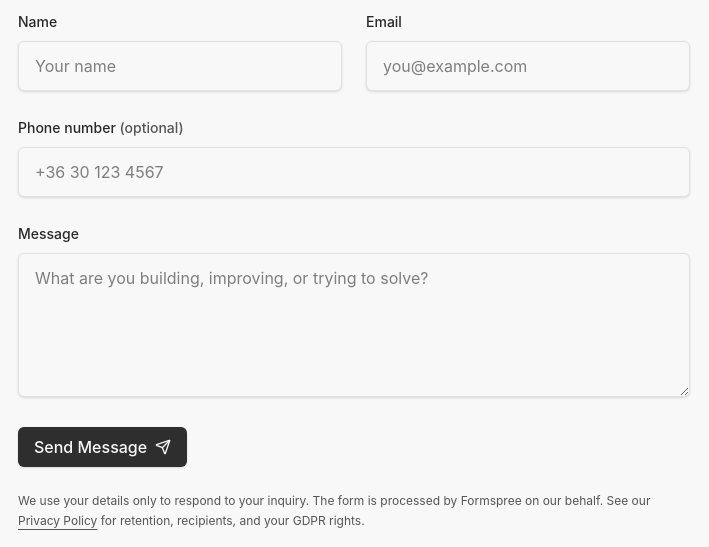
ContactForm › lets the user retry after an error, clearing the message on the next edit
Type "Ada Lovelace" into the field labelled "Name" at point(180, 66), box [18, 41, 342, 91]
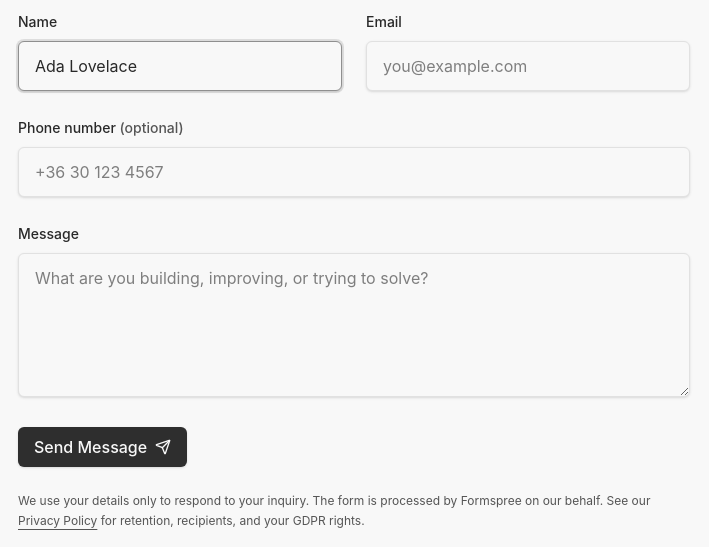
Type "ada@example.com" into the field labelled "Email" at point(528, 66), box [366, 41, 690, 91]
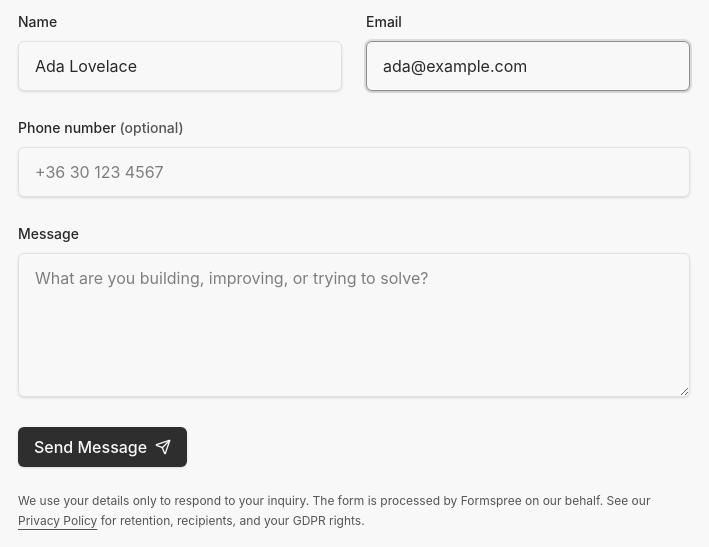
Type "We need a React audit." into the text box labelled "Message" at point(354, 325), box [18, 253, 690, 397]
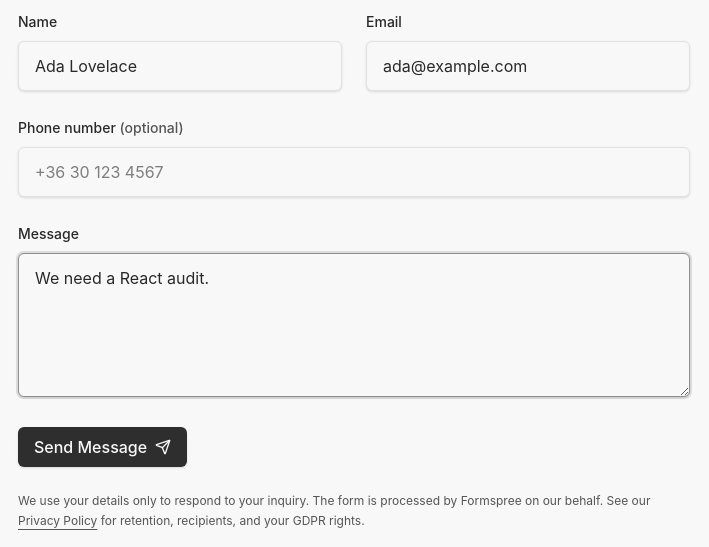
Click the button "Send Message" at point(103, 447), box [18, 427, 187, 467]
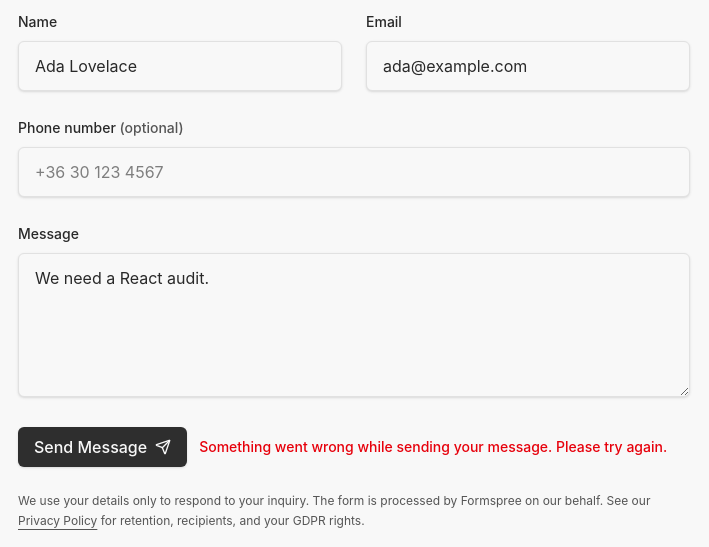
expect the text "Something went wrong while sending your message" is shown: met, box [199, 438, 667, 455]
Type " Please advise." into the text box labelled "Message" at point(354, 325), box [18, 253, 690, 397]
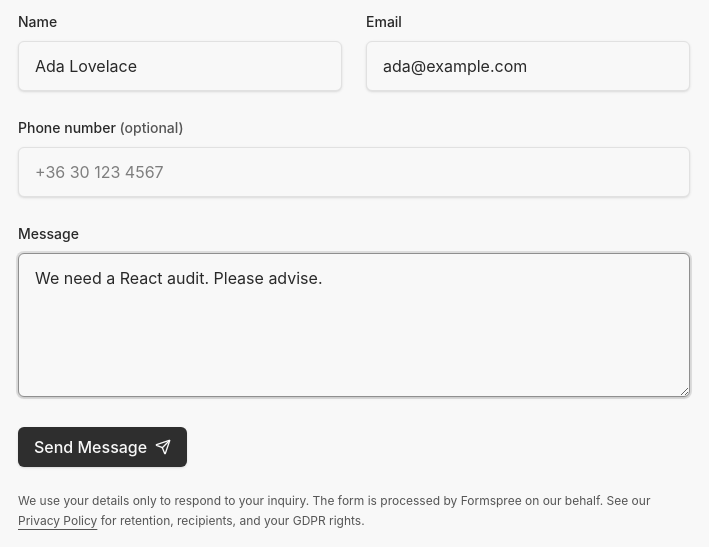
expect the text "Something went wrong while sending your message" is gone: met
